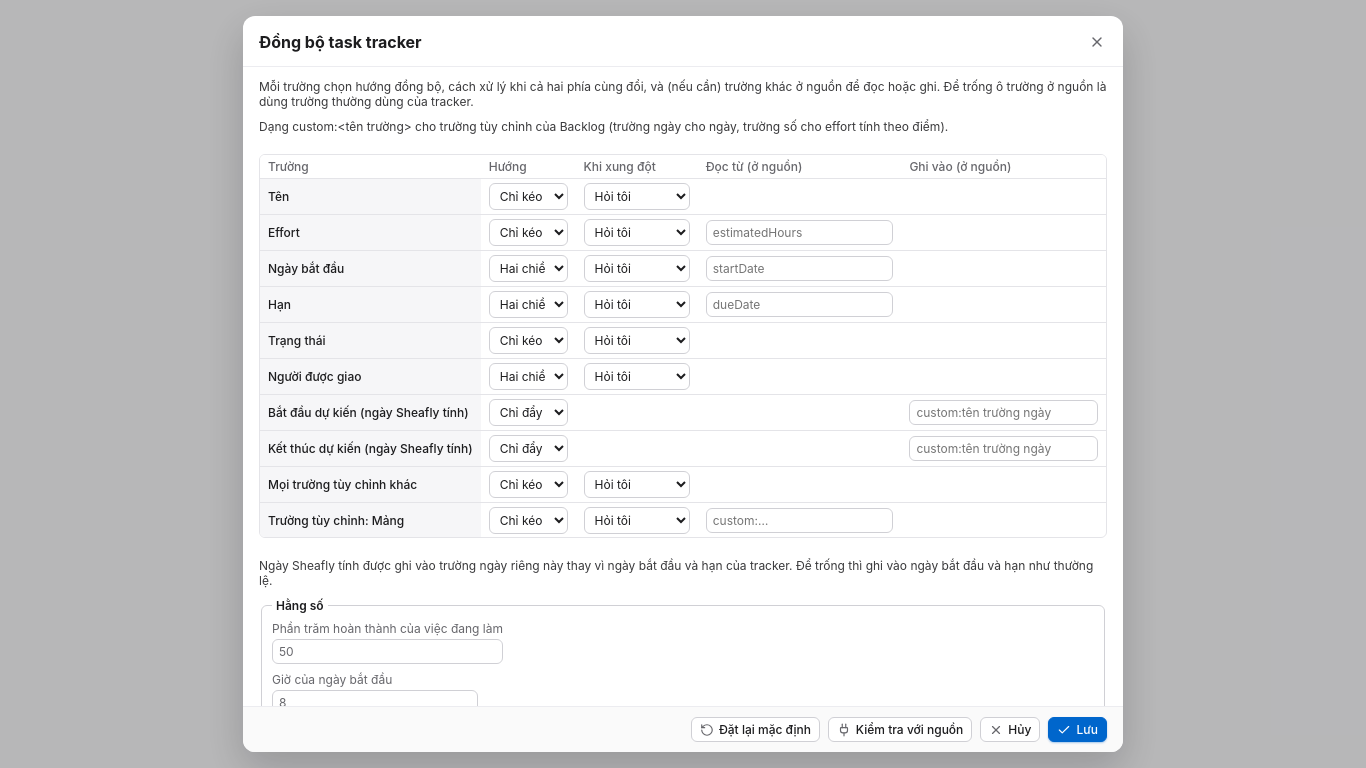
Scenario: TrackerSettingsDialog › shows the source's refusal of a field
This screenshot has width=1366, height=768.
Click the button "Kiểm tra với nguồn" at (900, 730), box [828,717,972,742]
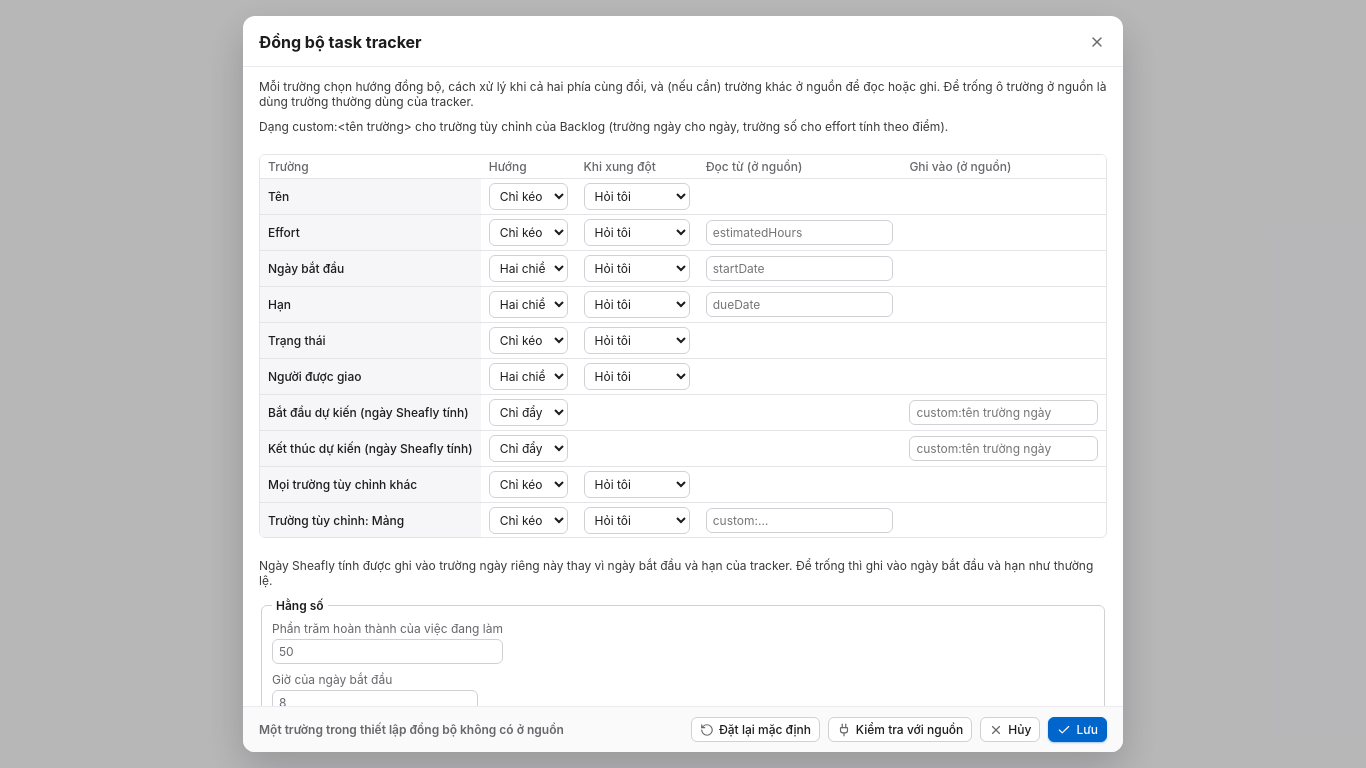
Result: the message shows "không có ở nguồn" at [259,722,564,737]
